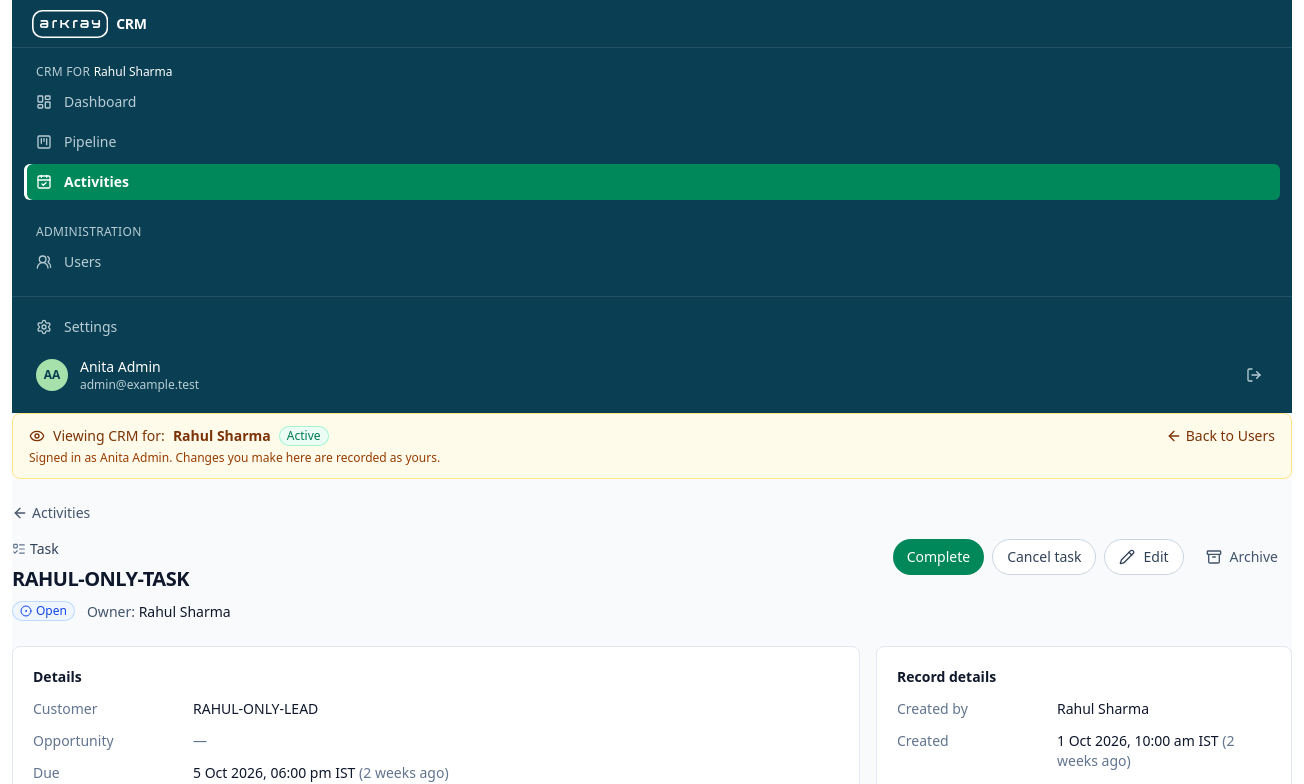
Test: mutations stay in their workspace's cache › completing Rahul's task updates Rahul's caches only; Priya's cached records are untouched
Click the button "Complete" at (938, 557), box [893,539,984,575]
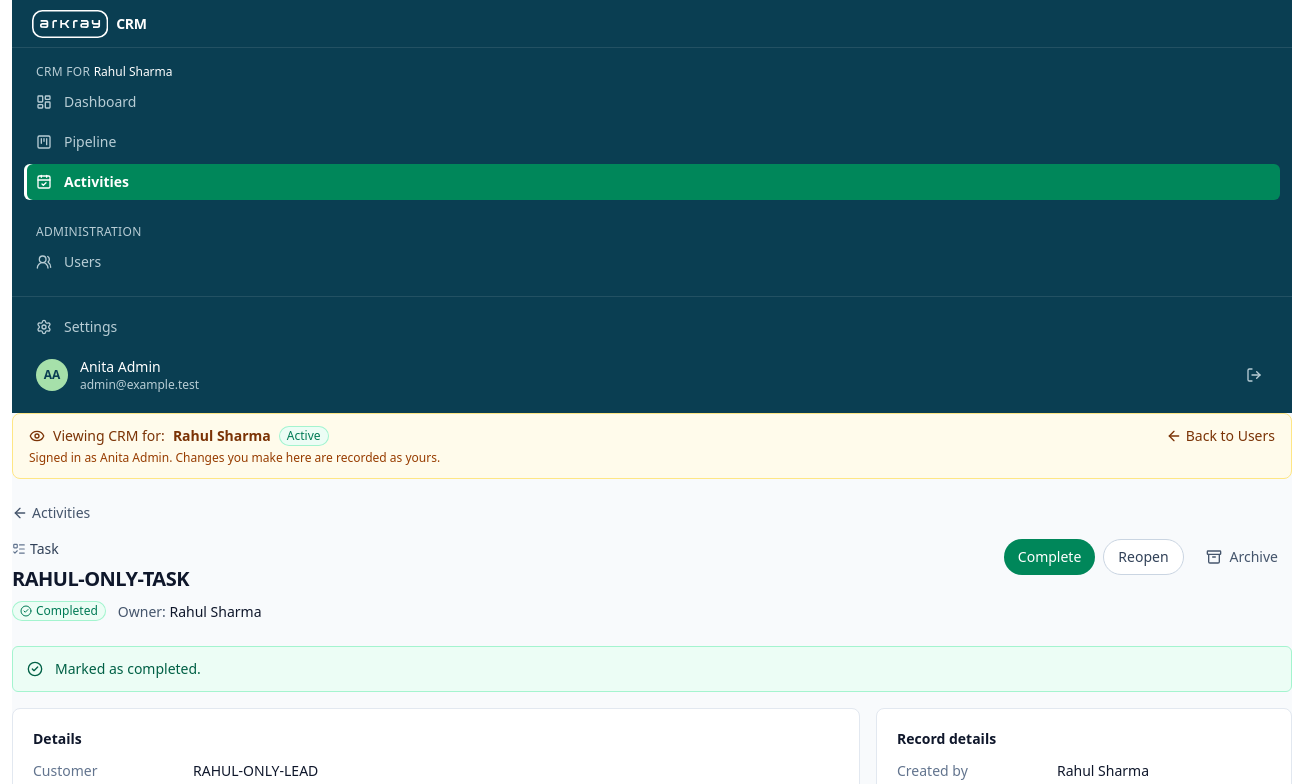
Check: the text "Anita Admin" is shown, box [80,357,161,376]
Check: the text "Completed" is shown, box [12,601,106,621]
